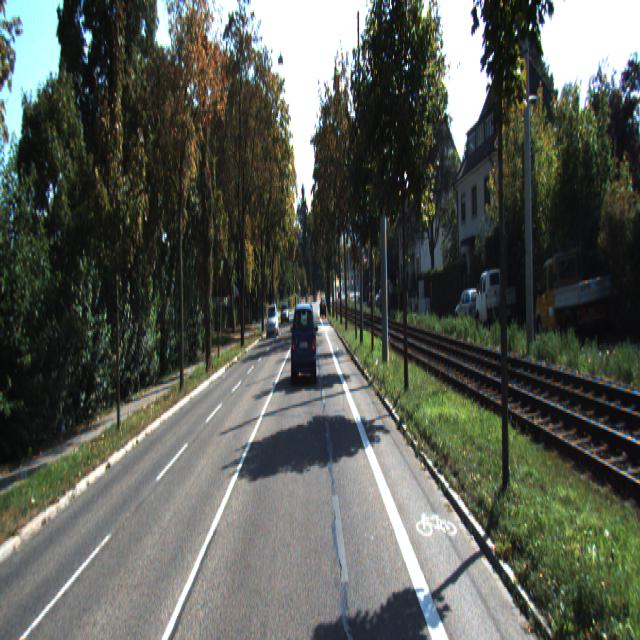Car: (533, 244, 613, 343), (475, 264, 515, 325), (291, 299, 318, 386), (455, 286, 484, 325), (266, 303, 279, 339)
